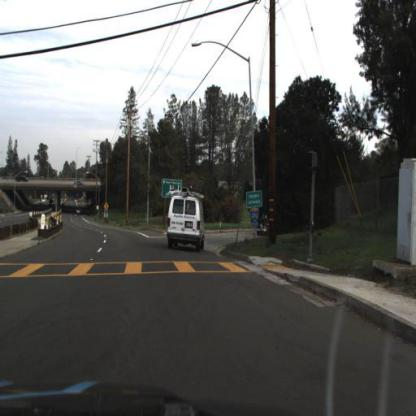car: (166, 189, 207, 246), (15, 174, 31, 185)
